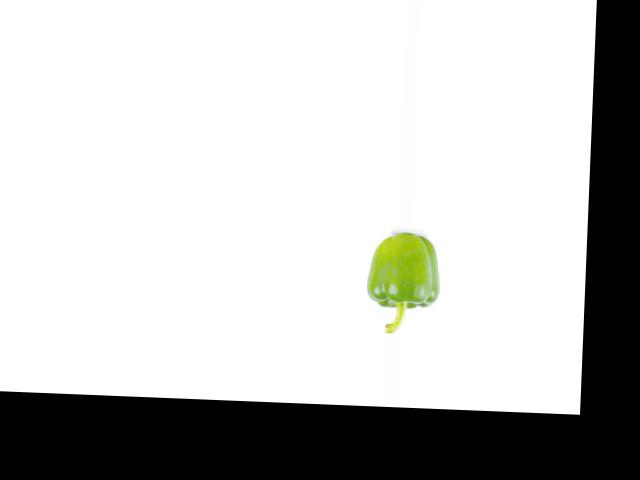bell_pepper: (364, 231, 453, 333)
